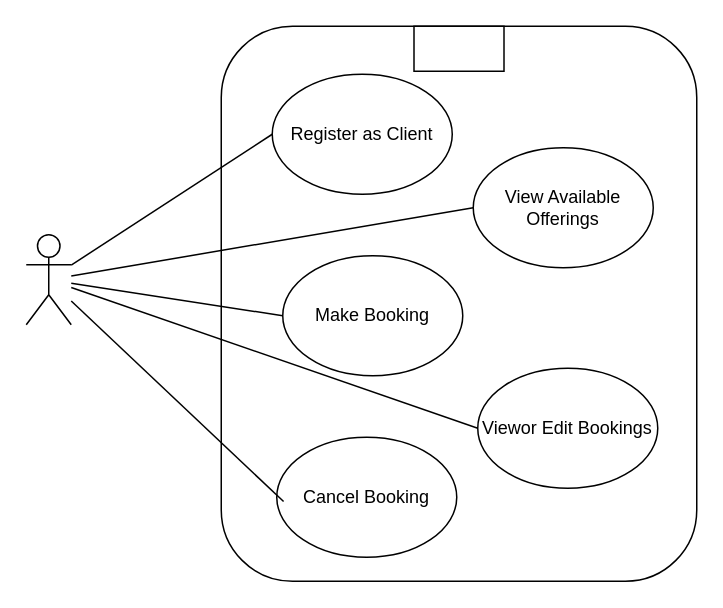
This 723x608 diagram has some shape labels left out. The shapes that lost their labels are listed below. From the top down, each one's centre as x and y in pixels, then its label:
[458,48]: Alouer
[48,279]: Client
